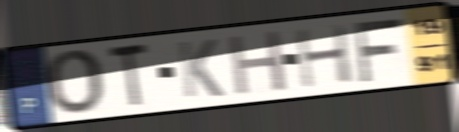F: (350, 15, 405, 85)
H: (226, 27, 290, 98), (292, 22, 356, 90)
K: (175, 36, 226, 100)
O: (41, 47, 105, 117)
T: (106, 40, 152, 112)
